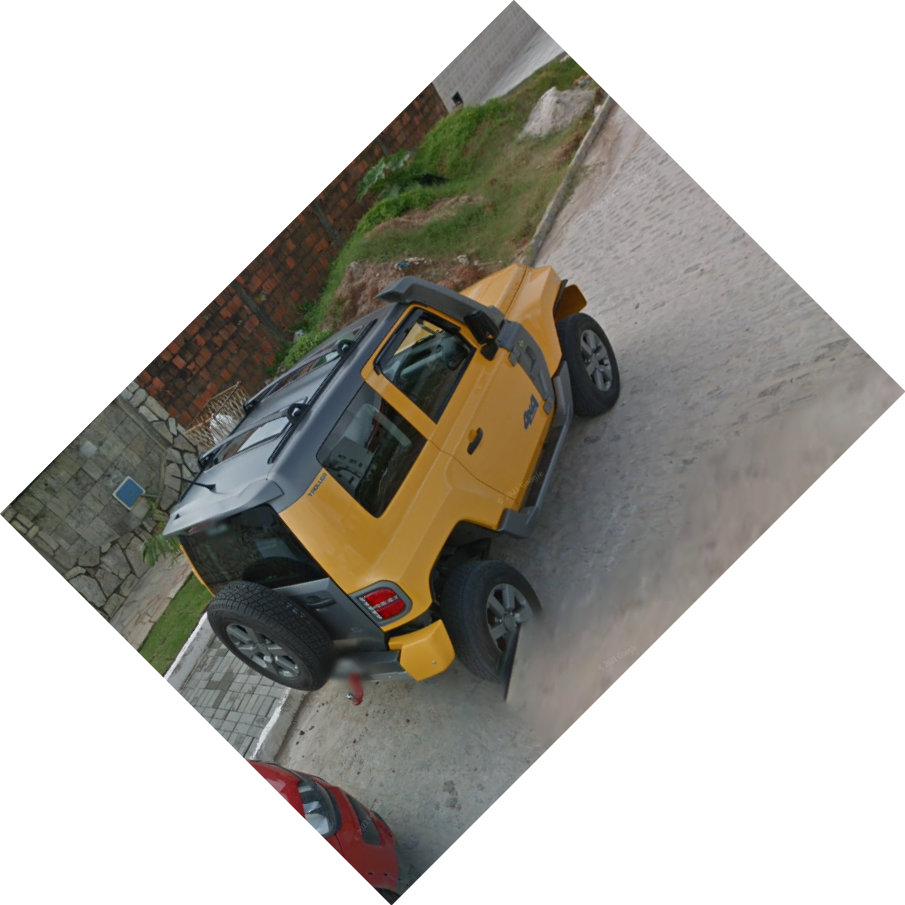car: (161, 257, 628, 694)
